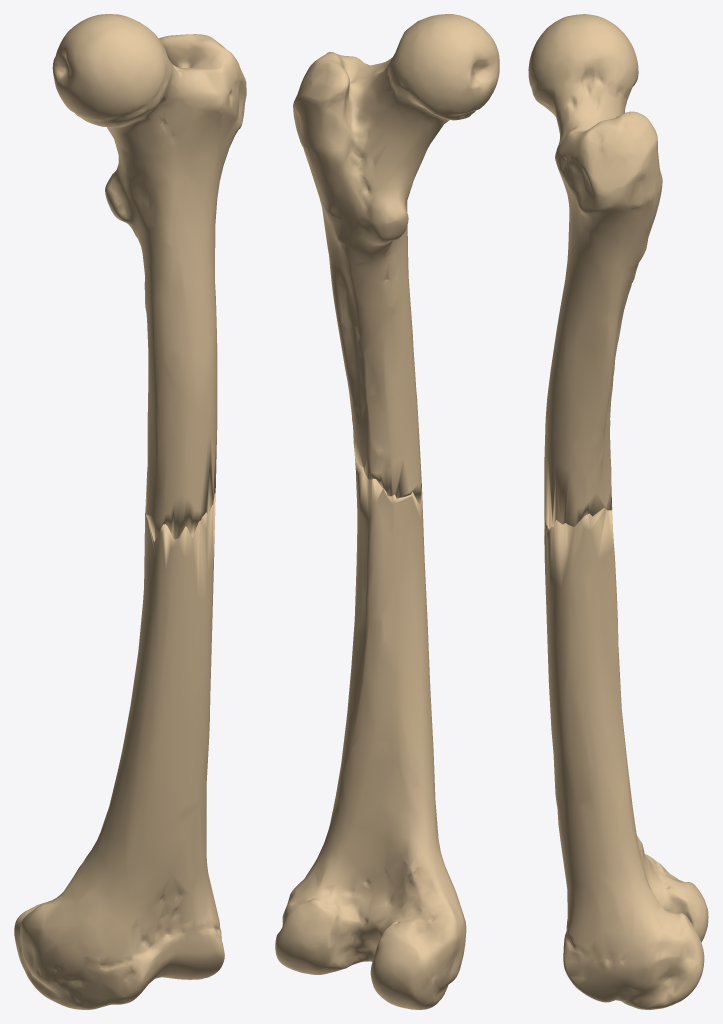
File: femur.glb
3 renders of one model, left to right at view 1: azimuth 30°, elevation 25°; view 2: azimuth 150°, elevation 25°; view 3: azimuth 270°, elevation 25°, orthographic. The views are drawn at different scales.
Visible parts, largest first — view 1: Distal, Proximal; view 2: Distal, Proximal; view 3: Distal, Proximal.
Boxes of the visible parts, x1,y1,x2,y2 form: Distal: [14, 493, 224, 1009]; Proximal: [52, 14, 246, 541]; Distal: [275, 458, 466, 1009]; Proximal: [293, 14, 499, 505]; Distal: [544, 508, 708, 1009]; Proximal: [528, 14, 662, 535].
Size of the model in its own units: 1.04 by 5.19 by 0.8923.
